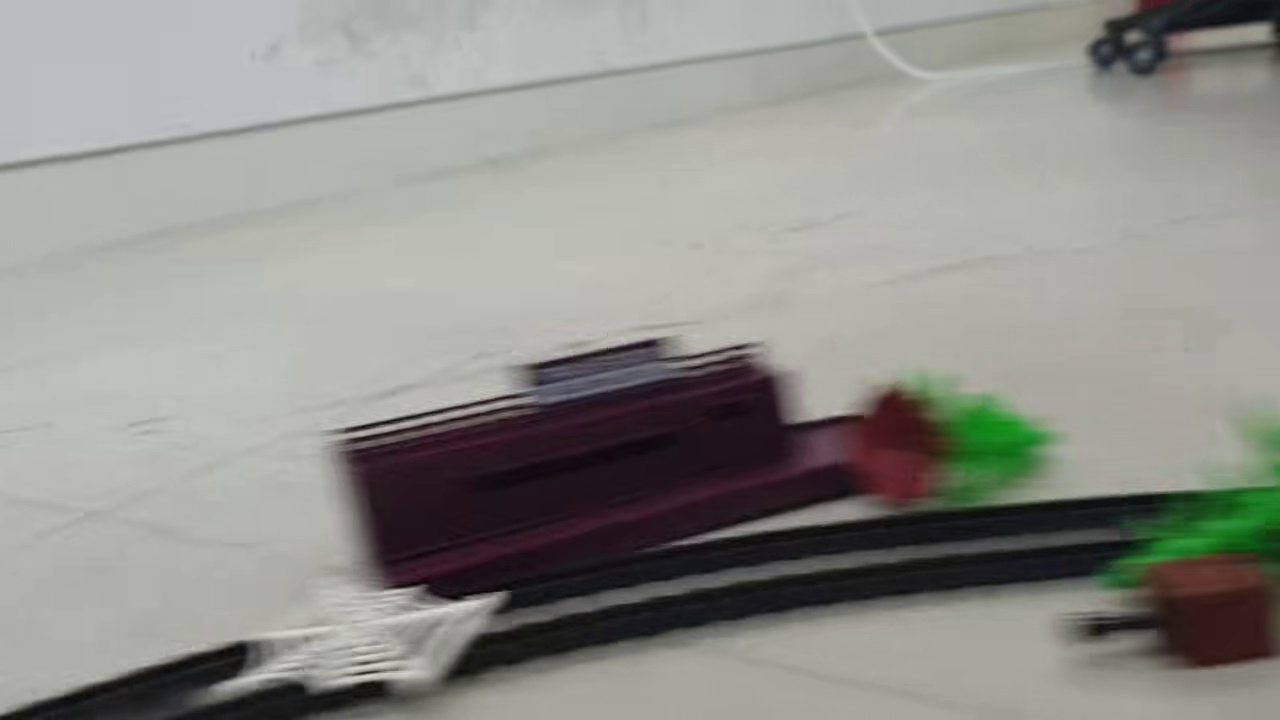box: (1063, 558, 1280, 672)
tree: (1092, 412, 1280, 586), (856, 368, 1070, 515)
web: (186, 565, 515, 707)
